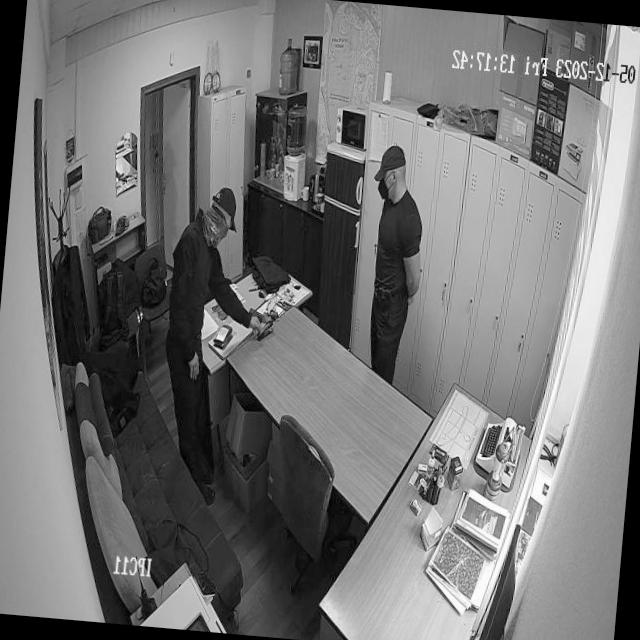person: (150, 182, 274, 508), (354, 142, 431, 388)
